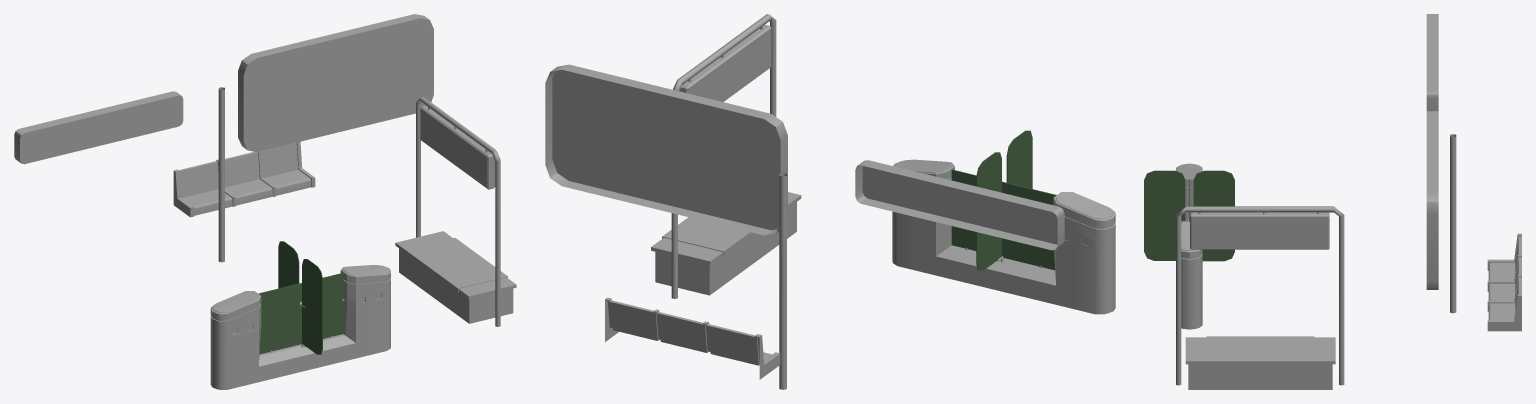
File: SubwayDecor.fbx
3 views of the same model, side by side, from view 1: azimuth 30°, elevation 25°; view 2: azimuth 150°, elevation 25°; view 3: azimuth 270°, elevation 25° (orthographic). The views are drawn at different scales.
Parts seen in each view (by area): view 1: PosterSmall, Body, SubwayBanch1, PosterBig, TrainSit, Door, Holder, Door1; view 2: PosterSmall, Body, SubwayBanch1, PosterBig, TrainSit, Holder, Door1, Door; view 3: SubwayBanch1, Door, TrainSit, Body, PosterSmall, Door1, PosterBig, Holder.
Part boxes in pixels (left/top/right/bottom): PosterSmall: left=238, top=14, right=433, bottom=152; Body: left=210, top=265, right=390, bottom=389; SubwayBanch1: left=395, top=96, right=516, bottom=326; PosterBig: left=14, top=91, right=183, bottom=164; TrainSit: left=173, top=141, right=315, bottom=217; Door: left=301, top=259, right=322, bottom=354; Holder: left=218, top=87, right=224, bottom=262; Door1: left=278, top=241, right=299, bottom=288; PosterSmall: left=545, top=64, right=787, bottom=235; Body: left=892, top=159, right=1115, bottom=314; SubwayBanch1: left=651, top=14, right=801, bottom=298; PosterBig: left=855, top=160, right=1064, bottom=250; TrainSit: left=605, top=297, right=780, bottom=379; Holder: left=779, top=173, right=786, bottom=389; Door1: left=976, top=152, right=1003, bottom=270; Door: left=1006, top=130, right=1032, bottom=188; SubwayBanch1: left=1176, top=206, right=1344, bottom=389; Door: left=1144, top=170, right=1186, bottom=260; TrainSit: left=1487, top=233, right=1521, bottom=331; Body: left=1176, top=163, right=1202, bottom=329; PosterSmall: left=1426, top=111, right=1438, bottom=289; Door1: left=1193, top=170, right=1234, bottom=261; PosterBig: left=1426, top=14, right=1438, bottom=110; Holder: left=1450, top=134, right=1456, bottom=313.
Size of the model in its own units: 0.2051 by 0.0985 by 0.1585.
